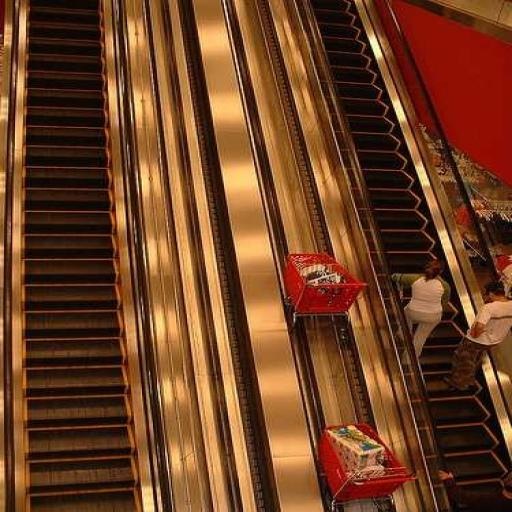shopping_cart: (312, 418, 419, 512), (280, 250, 366, 332)
